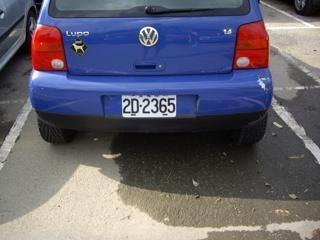plate: (121, 92, 178, 119)
